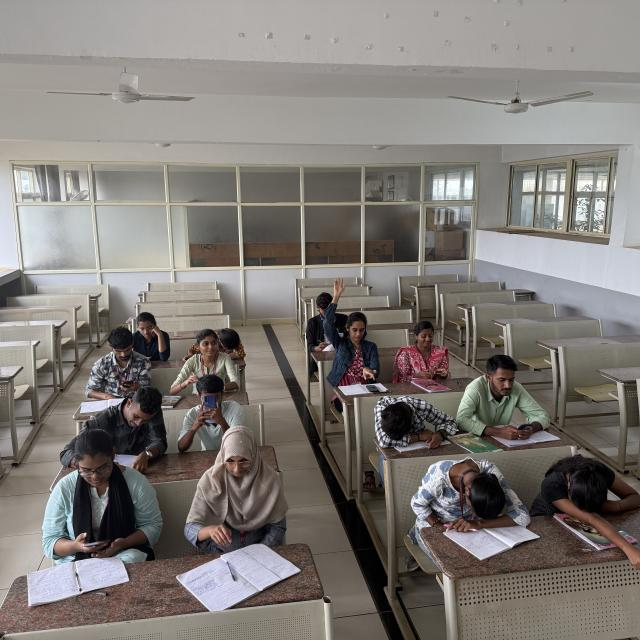Hand Rising: (327, 275, 377, 369)
Reading: (186, 425, 288, 561), (106, 387, 166, 469)
Sleeping: (411, 452, 528, 528), (532, 452, 639, 517), (373, 386, 461, 454)
Using Phone: (48, 431, 153, 561), (462, 348, 555, 442), (179, 375, 243, 451), (92, 326, 150, 388), (395, 319, 453, 380)
Writing: (302, 291, 343, 352)
